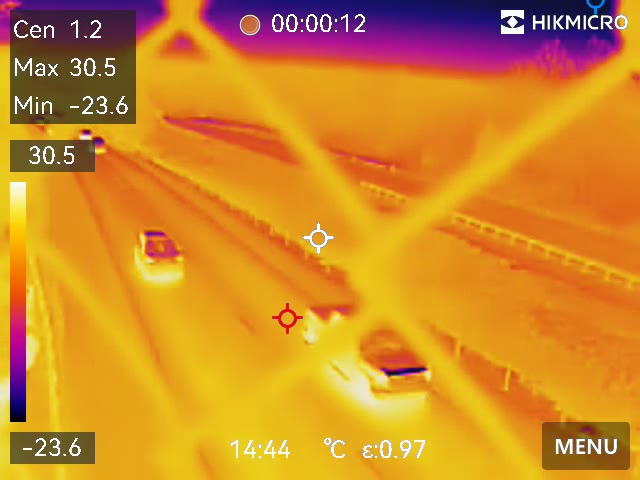lightTruck: (300, 301, 445, 403)
vehicle: (134, 227, 190, 279), (89, 136, 107, 155), (76, 126, 94, 141)
